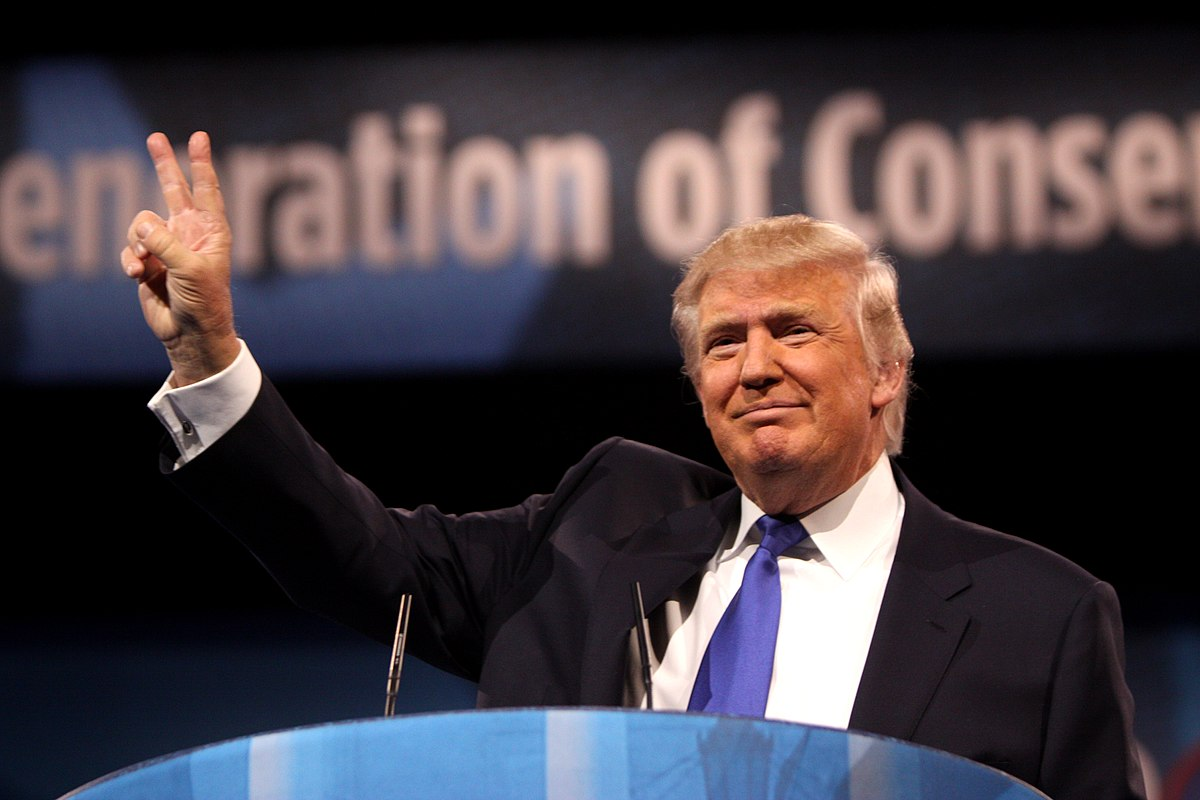face: (692, 268, 905, 480)
hand: (119, 129, 241, 368)
